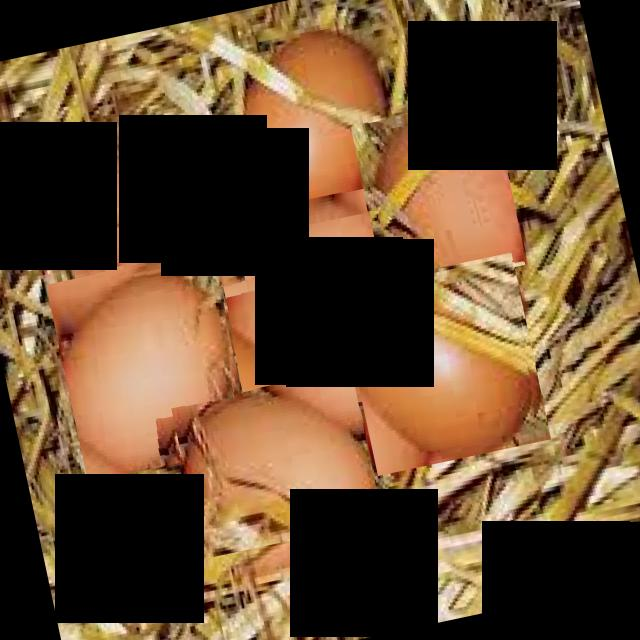eggs: (204, 182, 426, 425), (46, 248, 260, 482), (338, 250, 550, 476), (210, 15, 410, 237), (52, 130, 268, 328), (171, 370, 383, 558), (352, 94, 528, 294)
